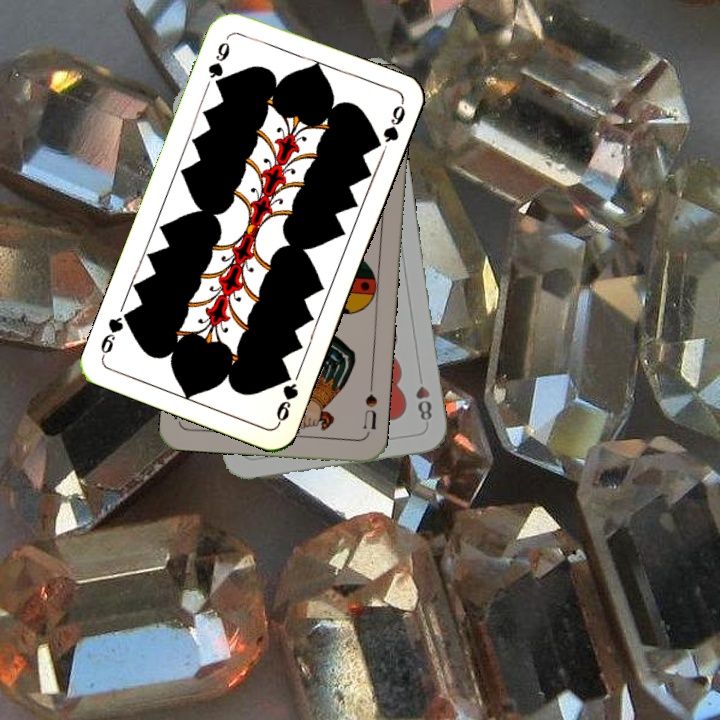G9: (272, 367, 301, 427), (203, 37, 233, 91)
H8: (411, 368, 434, 424)
SU: (359, 378, 380, 432)
